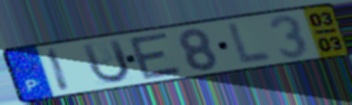3: (268, 11, 311, 62)
8: (176, 27, 220, 73)
E: (126, 30, 186, 82)
I: (45, 46, 73, 94)
L: (226, 20, 275, 67)
U: (79, 37, 133, 86)
